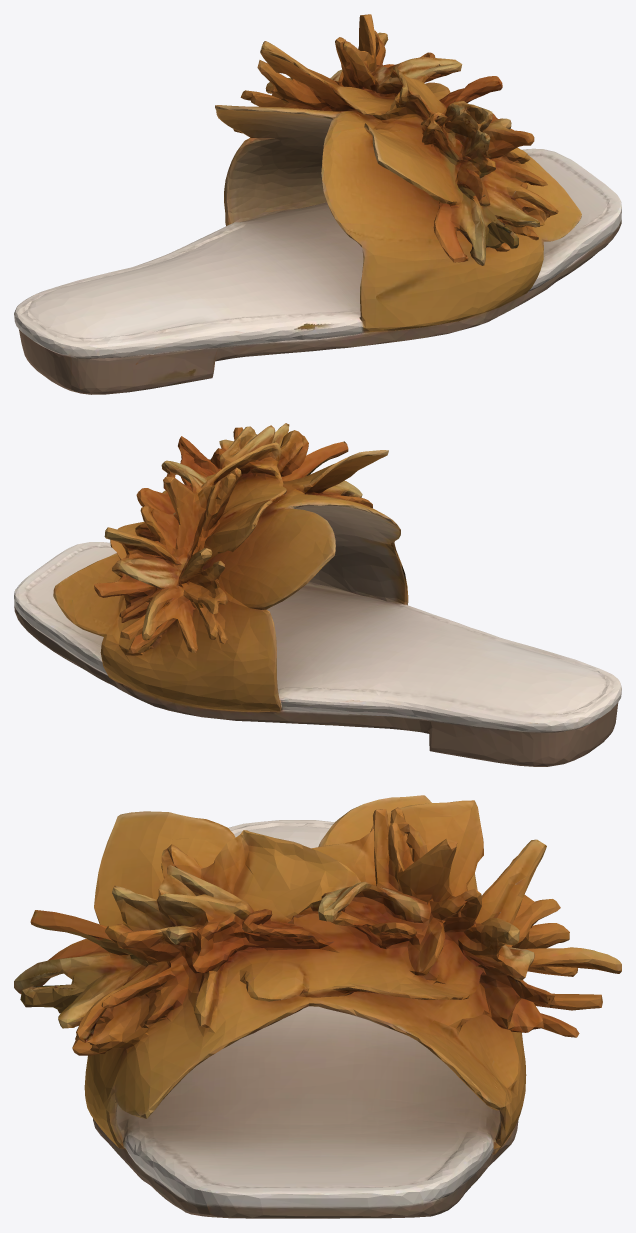
The picture shows the model from 3 angles, top to bottom: view 1: azimuth 30°, elevation 25°; view 2: azimuth 150°, elevation 25°; view 3: azimuth 270°, elevation 25°; orthographic projection. The views are drawn at different scales.
Visible parts, largest first — view 1: world; view 2: world; view 3: world.
Part boxes in pixels (left/top/right/bottom): world: left=14, top=14, right=621, bottom=394; world: left=14, top=423, right=621, bottom=766; world: left=14, top=795, right=621, bottom=1218.
Size of the model in its own units: 1 by 0.3885 by 0.6638.
1 material, 1 textured.
